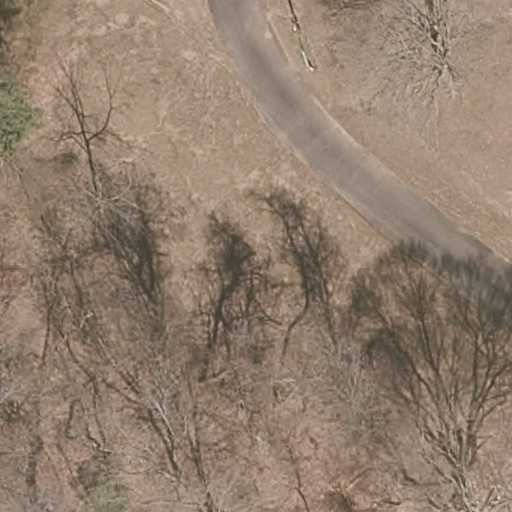DT: (292, 25, 315, 72)
